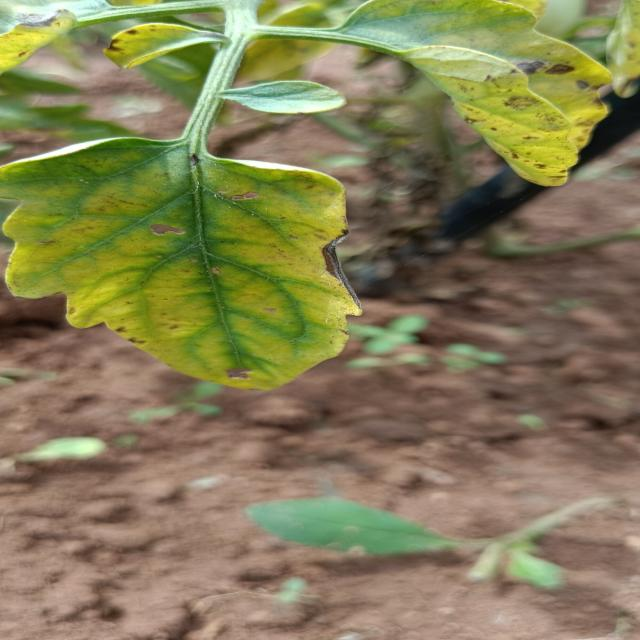tomato_early blight: (0, 135, 356, 398), (321, 0, 640, 196), (115, 21, 214, 70)
